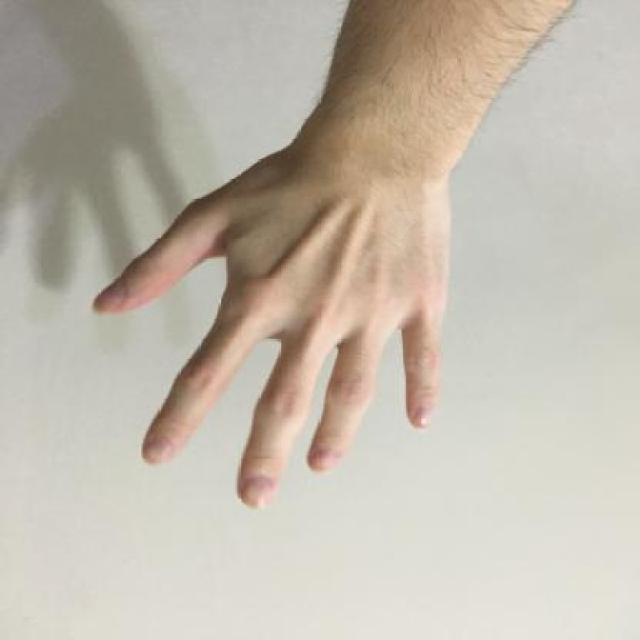bare_hand: (77, 106, 497, 522)
